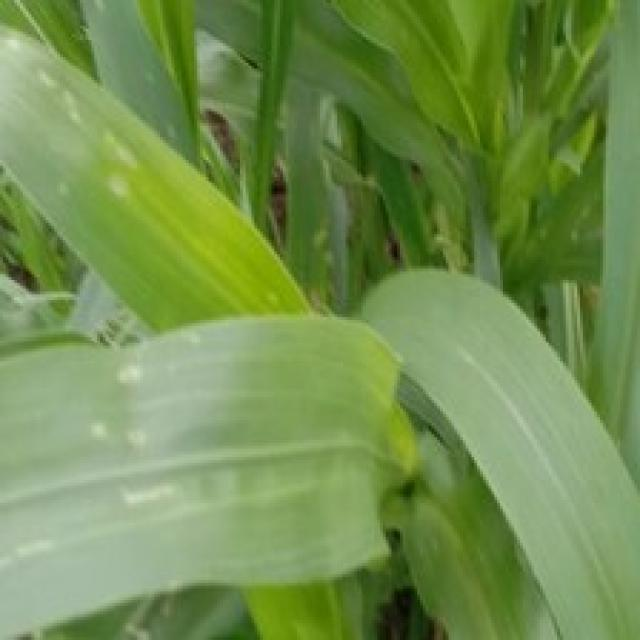Corn: (0, 0, 637, 637), (0, 309, 417, 637), (352, 263, 637, 637), (0, 8, 314, 331)
